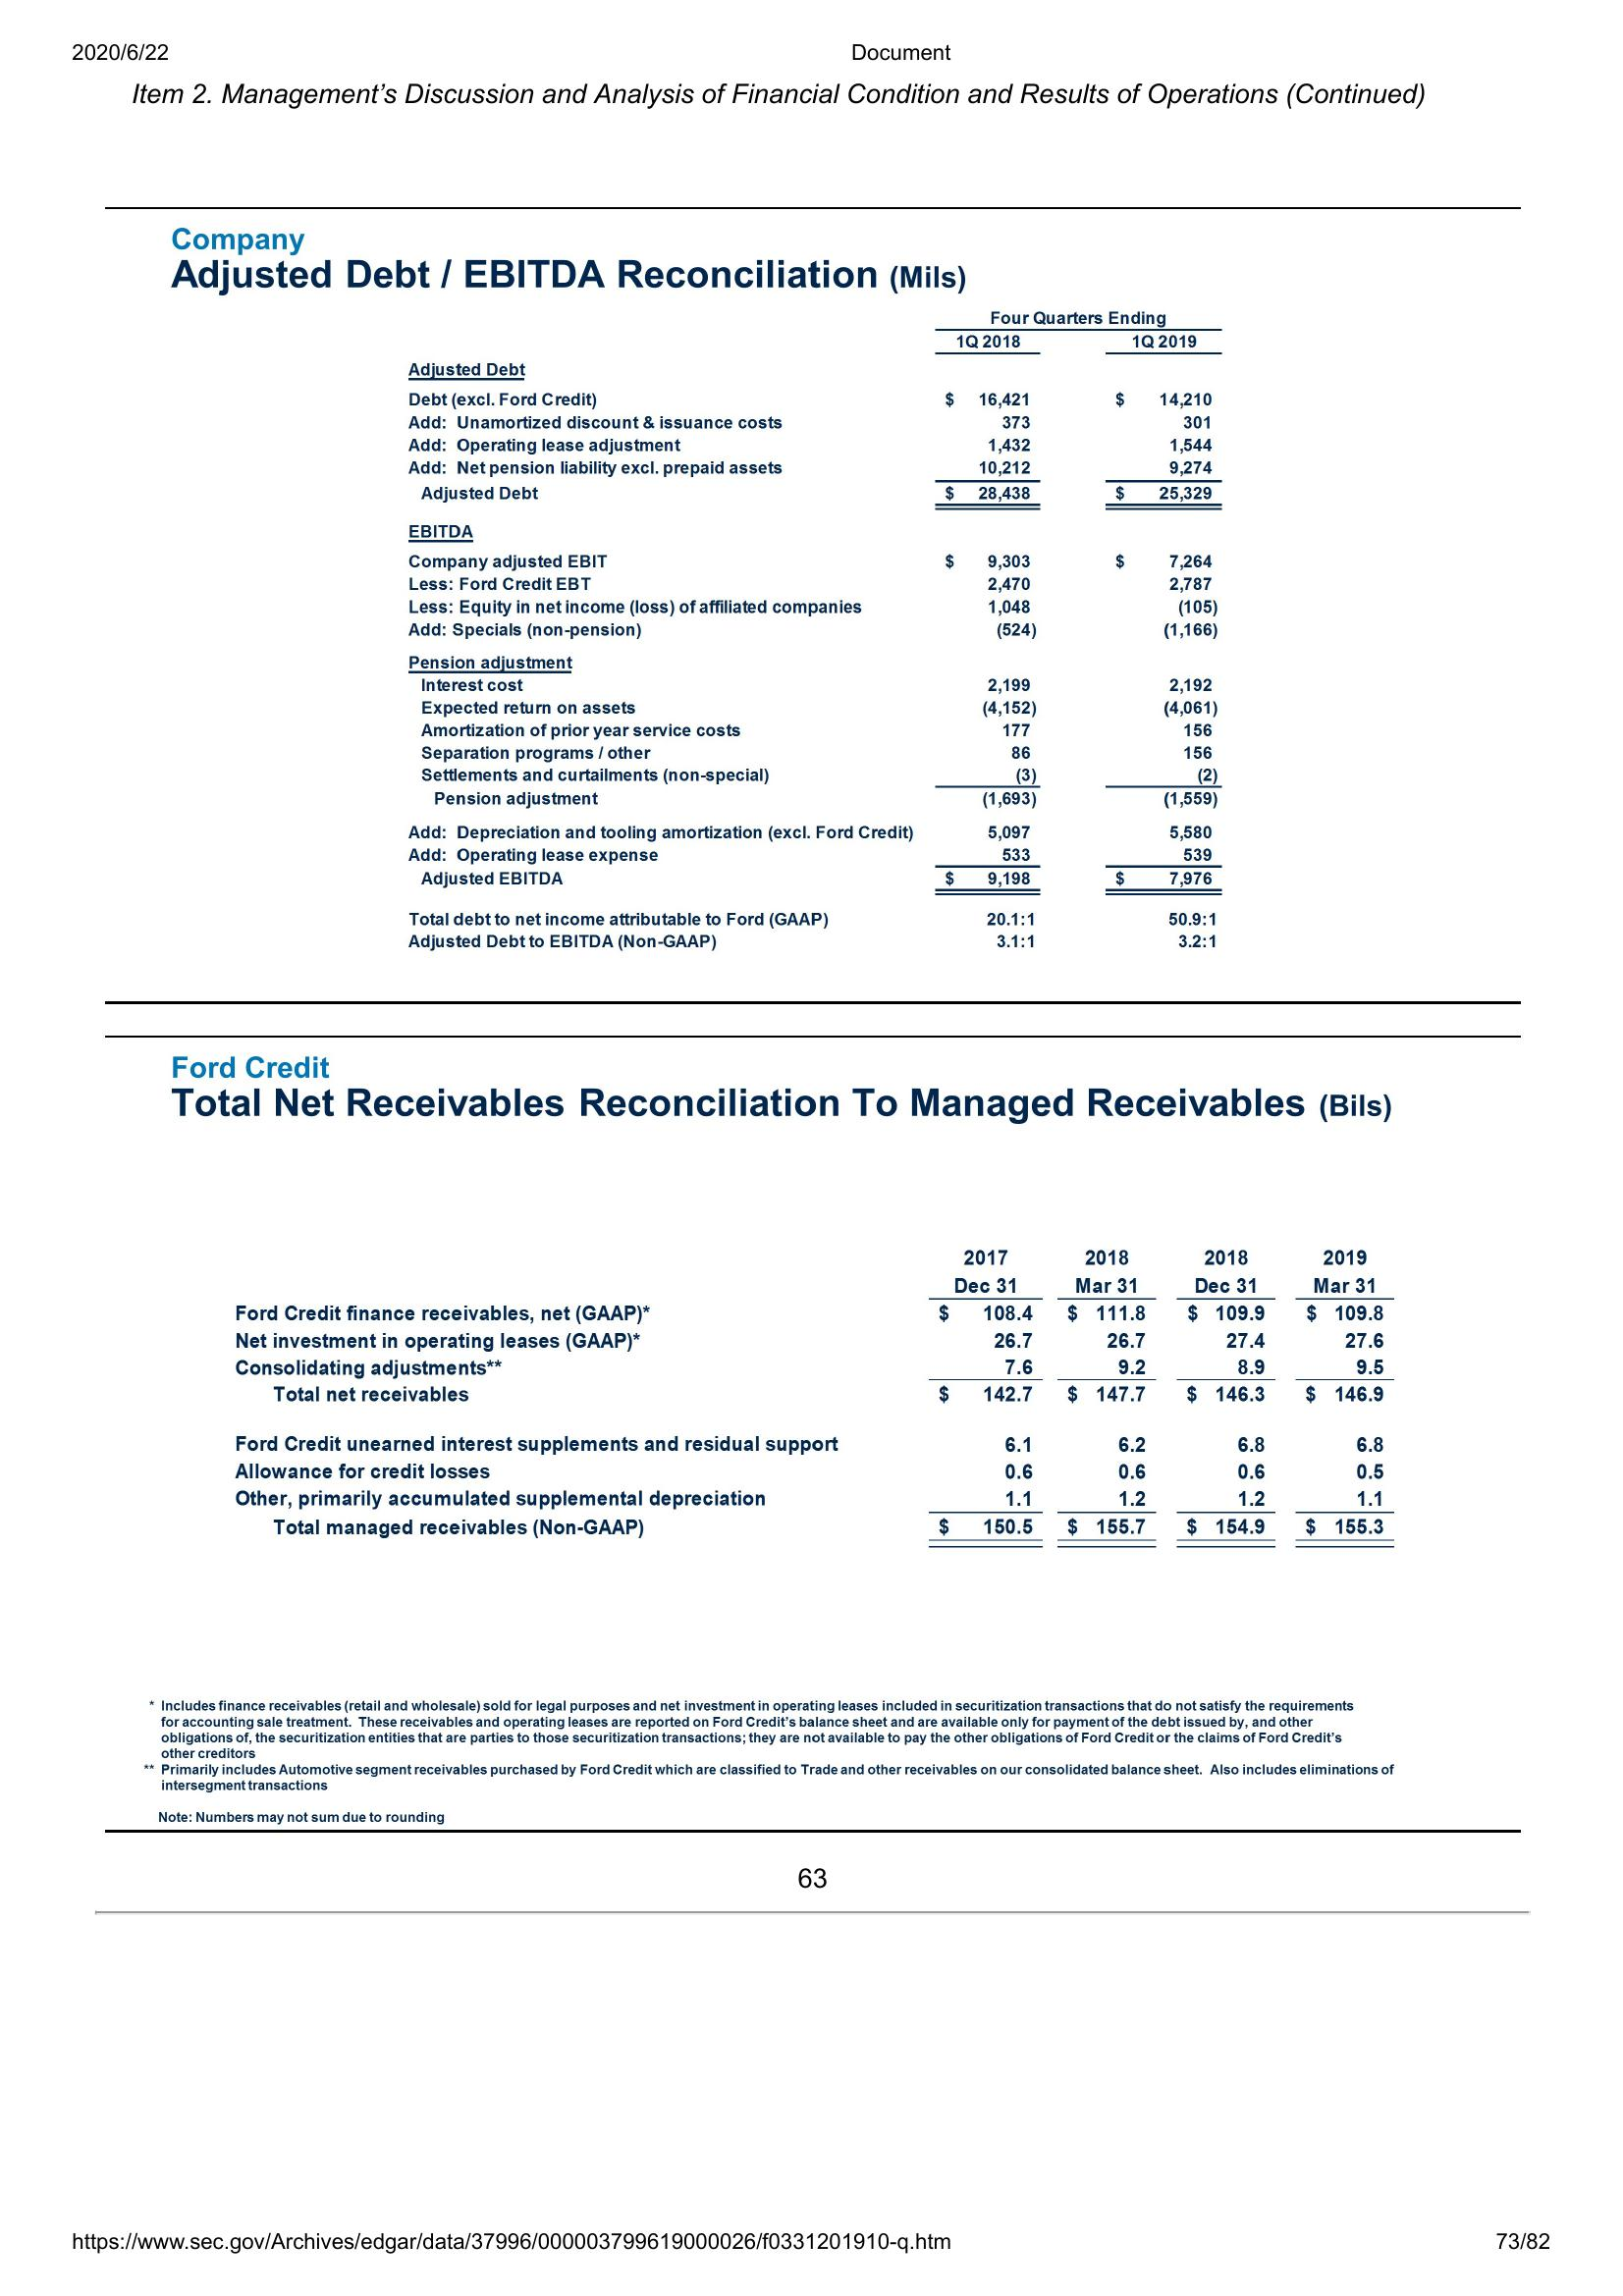table: (390, 309, 1226, 957), (232, 1241, 1400, 1552)
